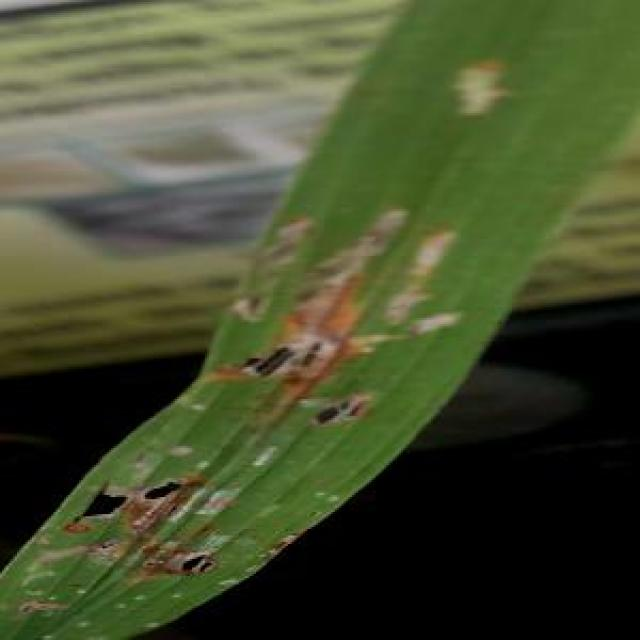Leaf_Blast: (60, 446, 209, 546), (218, 198, 328, 328), (111, 525, 262, 604), (228, 326, 369, 397), (290, 369, 386, 444)
